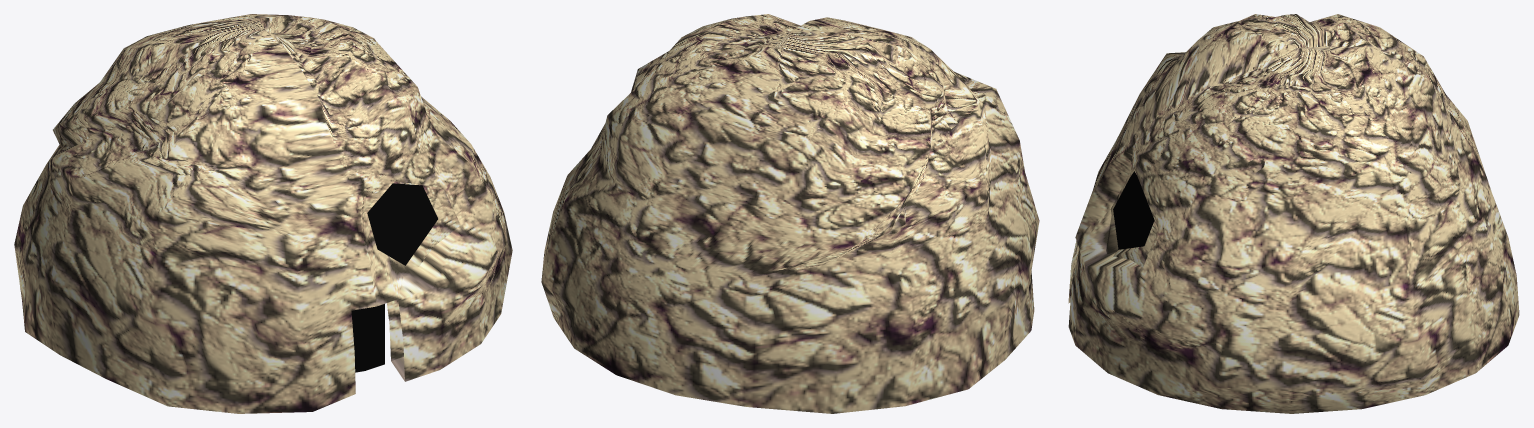
File: HUTS.fbx
The picture shows the model from 3 angles, left to right: view 1: azimuth 30°, elevation 25°; view 2: azimuth 150°, elevation 25°; view 3: azimuth 270°, elevation 25°; orthographic projection. The views are drawn at different scales.
Parts seen in each view (by area): view 1: pSphere1; view 2: pSphere1; view 3: pSphere1.
Part boxes in pixels (left/top/right/bottom): pSphere1: left=14, top=14, right=512, bottom=413; pSphere1: left=541, top=14, right=1039, bottom=413; pSphere1: left=1068, top=14, right=1519, bottom=413.
Bounding box in the file's own units: 2.7 × 1.69 × 2.49.
Materials: 2 (1 with a texture image).
